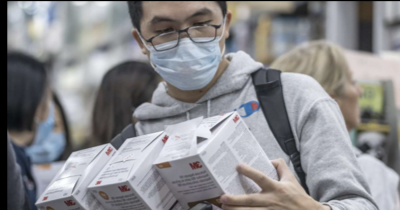with_mask: (141, 6, 224, 93), (26, 115, 66, 165), (28, 87, 54, 148)
without_mask: (337, 72, 365, 134)
